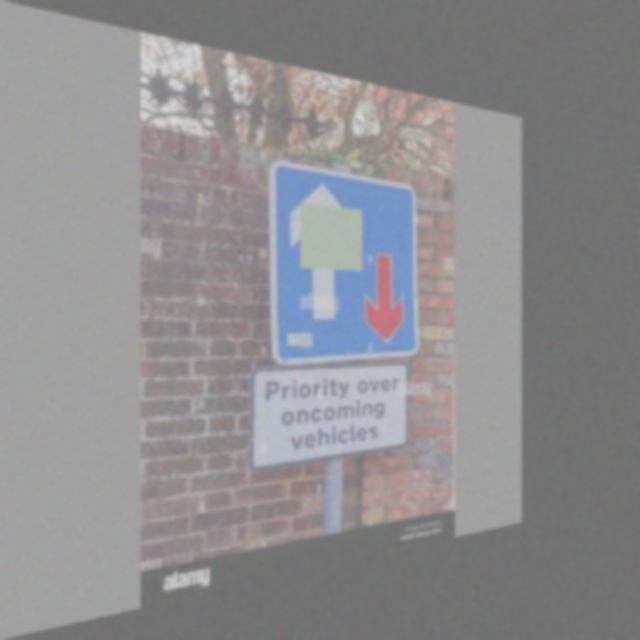Priority_for_Oncoming_Traffic: (278, 167, 416, 357)
